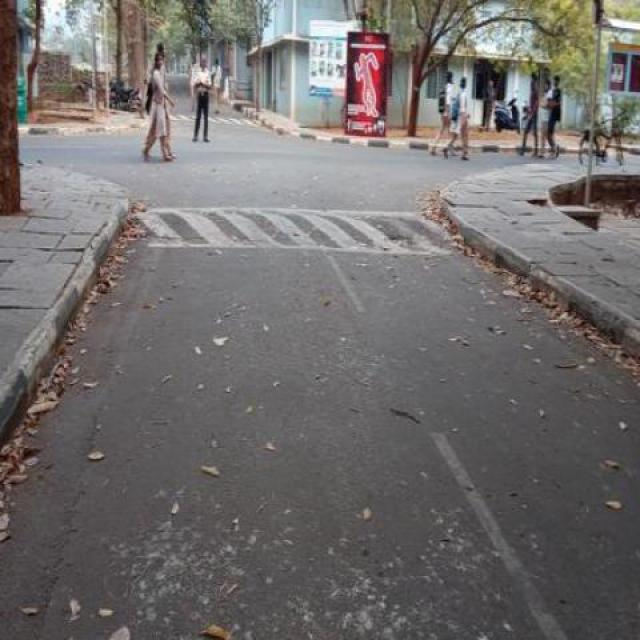Speed Bump: (122, 202, 461, 254)
